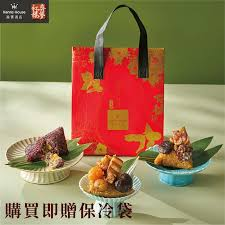zongzi: (88, 155, 131, 197), (25, 127, 68, 168), (153, 127, 192, 168)
